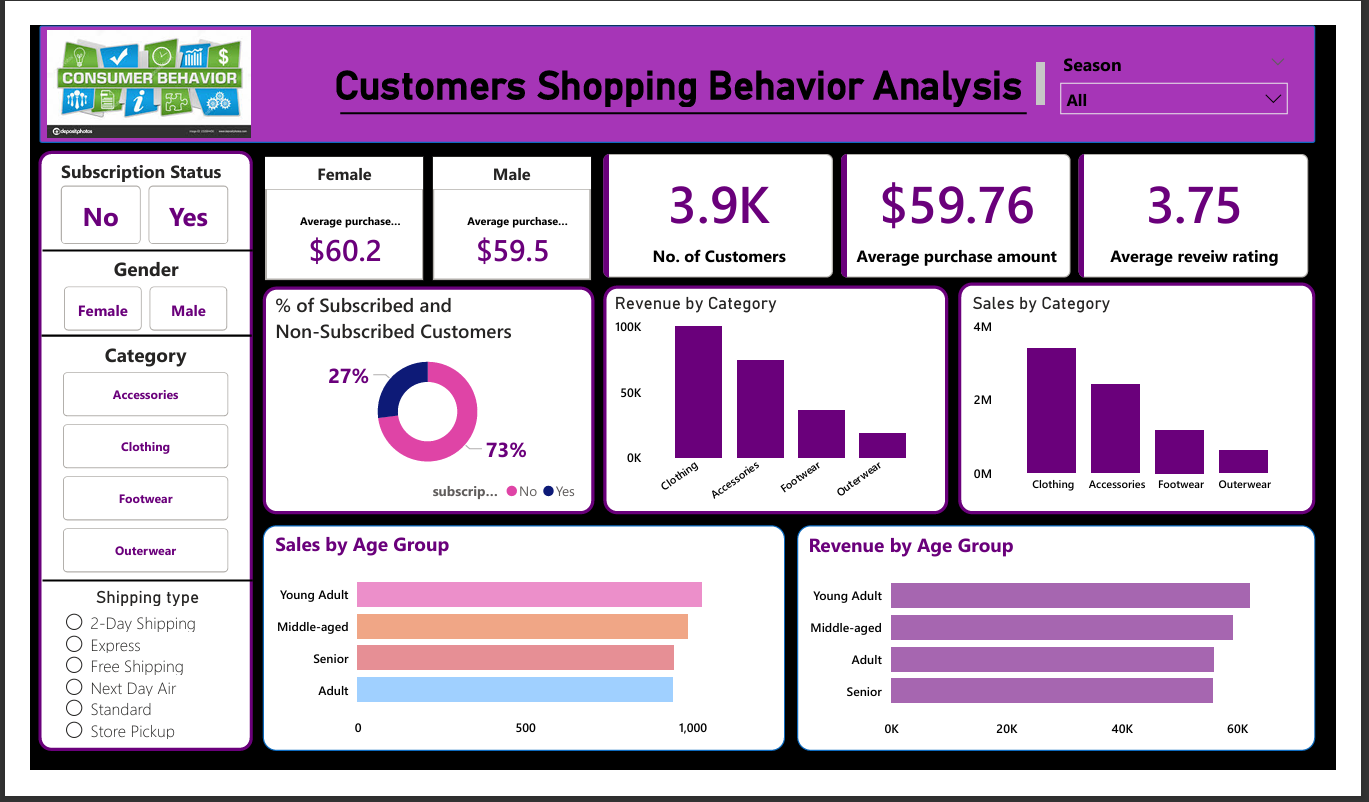

This screenshot's page, from the dashboard's own definition file:
{"tool":"powerbi","page":{"name":"Page 1","canvas":[1280,730],"ordinal":0},"visuals":[{"type":"shape","box":[751.6,489.8,507.9,220.8],"z":0},{"type":"shape","box":[228,255.8,324.5,223.2],"z":1000},{"type":"cardVisual","fields":{"Data":["customer_behavior customer.No. of Customers","customer_behavior customer.Average purchase amount","customer_behavior customer.Average reveiw rating"]},"box":[557.4,120.6,702.1,131.5],"z":2000},{"type":"shape","box":[8.6,0,1251.3,115],"z":3000},{"type":"textbox","box":[278.8,30.6,721.5,53.8],"z":4000},{"type":"slicer","fields":{"Values":["customer_behavior customer.season"]},"box":[1000.3,20.6,243.2,74.2],"z":5000},{"type":"cardVisual","fields":{"Data":["customer_behavior customer.Average purchase amount"],"Rows":["customer_behavior customer.gender"]},"box":[205.1,123.1,370.4,131.5],"z":6000},{"type":"donutChart","title":"% of Subscribed and Non-Subscribed Customers","fields":{"Category":["customer_behavior customer.subscription_status"],"Y":["CountNonNull(customer_behavior customer.customer_id)"]},"box":[235.3,260.6,308.8,214.7],"z":7000},{"type":"shape","box":[562.2,254.6,337.8,224.4],"z":8000},{"type":"shape","box":[909.7,252.1,349.9,226.8],"z":9000},{"type":"clusteredColumnChart","title":"Revenue by Category","fields":{"Y":["Sum(customer_behavior customer.purchase_amount)"],"Category":["customer_behavior customer.category"]},"box":[568.2,261.8,322.1,213.5],"z":10000},{"type":"clusteredColumnChart","title":"Sales by Category","fields":{"Category":["customer_behavior customer.category"],"Y":["Sum(customer_behavior customer.customer_id)"]},"box":[919.3,261.8,326.9,205.1],"z":11000},{"type":"shape","box":[8.4,123.1,209.9,587.5],"z":12000},{"type":"advancedSlicerVisual","title":"Subscription Status","fields":{"Values":["customer_behavior customer.subscription_status"]},"box":[25.3,130.3,174.9,89.3],"z":13000},{"type":"advancedSlicerVisual","title":"Gender","fields":{"Values":["customer_behavior customer.gender"]},"box":[27.7,225.6,171.3,78.4],"z":14000},{"type":"advancedSlicerVisual","title":"Category","fields":{"Values":["customer_behavior customer.category"]},"box":[26.5,310.1,172.5,234],"z":15000},{"type":"shape","box":[12.1,213.5,206.3,13.3],"z":16000},{"type":"shape","box":[10.9,298,206.3,12.1],"z":17000},{"type":"shape","box":[12.1,538.1,206.3,12.1],"z":18000},{"type":"listSlicer","title":"Shipping type","fields":{"Values":["customer_behavior customer.shipping_type"]},"box":[29,550.1,172.5,160.5],"z":19000},{"type":"clusteredBarChart","title":"Revenue by Age Group","fields":{"Y":["Sum(customer_behavior customer.purchase_amount)"],"Category":["customer_behavior customer.age_group"]},"box":[757.6,495.8,498.3,211.1],"z":20000},{"type":"shape","box":[228,489.8,511.5,220.8],"z":21000},{"type":"clusteredBarChart","title":"Sales by Age Group","fields":{"Category":["customer_behavior customer.age_group"],"Y":["CountNonNull(customer_behavior customer.customer_id)"]},"box":[235.3,494.6,498.3,211.1],"z":21001},{"type":"shape","box":[302.8,77.2,675.6,18.1],"z":21004},{"type":"image","box":[6.1,0,221.4,115],"z":21005}]}

Visuals, with their boxes in screenshot pixels (x1, y1, x2, y2), scaled from the page's 1280x730 canvas onto the 1369x802 screenshot:
shape: <box>804,538,1347,781</box>
shape: <box>244,281,591,526</box>
cardVisual - customer_behavior customer.No. of Customers x customer_behavior customer.Average purchase amount: <box>596,132,1347,277</box>
shape: <box>9,0,1348,126</box>
textbox: <box>298,34,1070,93</box>
slicer - customer_behavior customer.season: <box>1070,23,1330,104</box>
cardVisual - customer_behavior customer.Average purchase amount x customer_behavior customer.gender: <box>219,135,616,280</box>
"% of Subscribed and Non-Subscribed Customers" donutChart: <box>252,286,582,522</box>
shape: <box>601,280,963,526</box>
shape: <box>973,277,1347,526</box>
"Revenue by Category" clusteredColumnChart: <box>608,288,952,522</box>
"Sales by Category" clusteredColumnChart: <box>983,288,1333,513</box>
shape: <box>9,135,233,781</box>
"Subscription Status" advancedSlicerVisual: <box>27,143,214,241</box>
"Gender" advancedSlicerVisual: <box>30,248,213,334</box>
"Category" advancedSlicerVisual: <box>28,341,213,598</box>
shape: <box>13,235,234,249</box>
shape: <box>12,327,232,341</box>
shape: <box>13,591,234,604</box>
"Shipping type" listSlicer: <box>31,604,216,781</box>
"Revenue by Age Group" clusteredBarChart: <box>810,545,1343,777</box>
shape: <box>244,538,791,781</box>
"Sales by Age Group" clusteredBarChart: <box>252,543,785,775</box>
shape: <box>324,85,1046,105</box>
image: <box>7,0,243,126</box>
